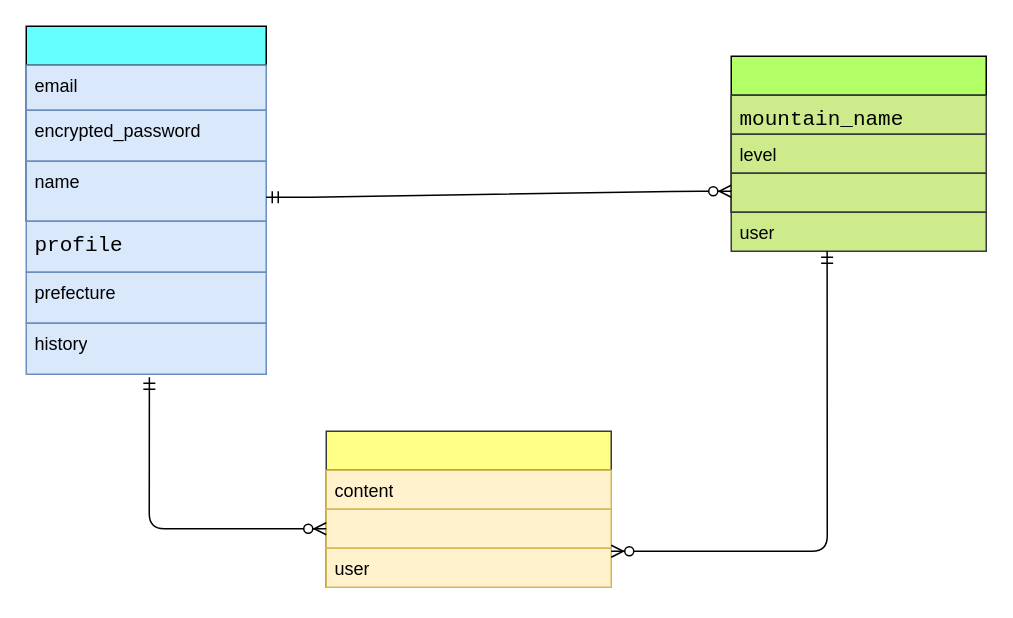
The diagram is 1013 pixels wide and 618 high, and some of its shapes have lost their labels. The shapes that lost their labels are listed below. From the top down, each one's box as (x1, y1, x2, y2) in pixels, then its label:
(25, 25, 266, 221): users
(730, 55, 986, 212): mountains
(730, 172, 986, 212): point
(325, 430, 611, 587): comments
(325, 508, 611, 548): mountain
